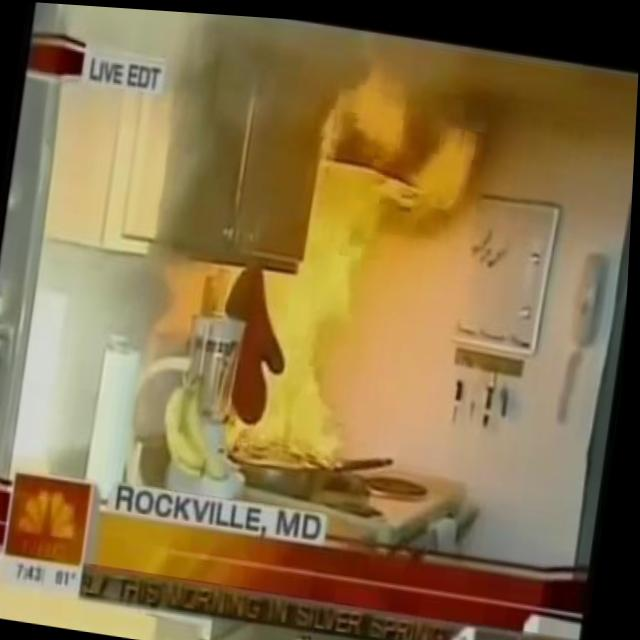fire: (235, 38, 475, 479)
